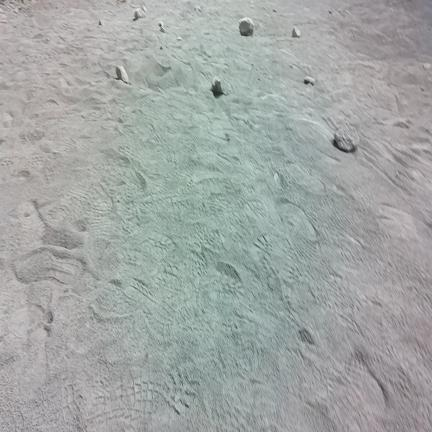Rock: (334, 122, 359, 152), (239, 18, 254, 36), (115, 66, 130, 84), (212, 76, 224, 96), (134, 8, 144, 20), (304, 76, 315, 85), (292, 27, 300, 37), (194, 5, 202, 13), (159, 22, 165, 32), (141, 4, 147, 13), (177, 37, 182, 41), (273, 8, 277, 12), (99, 20, 102, 25)
